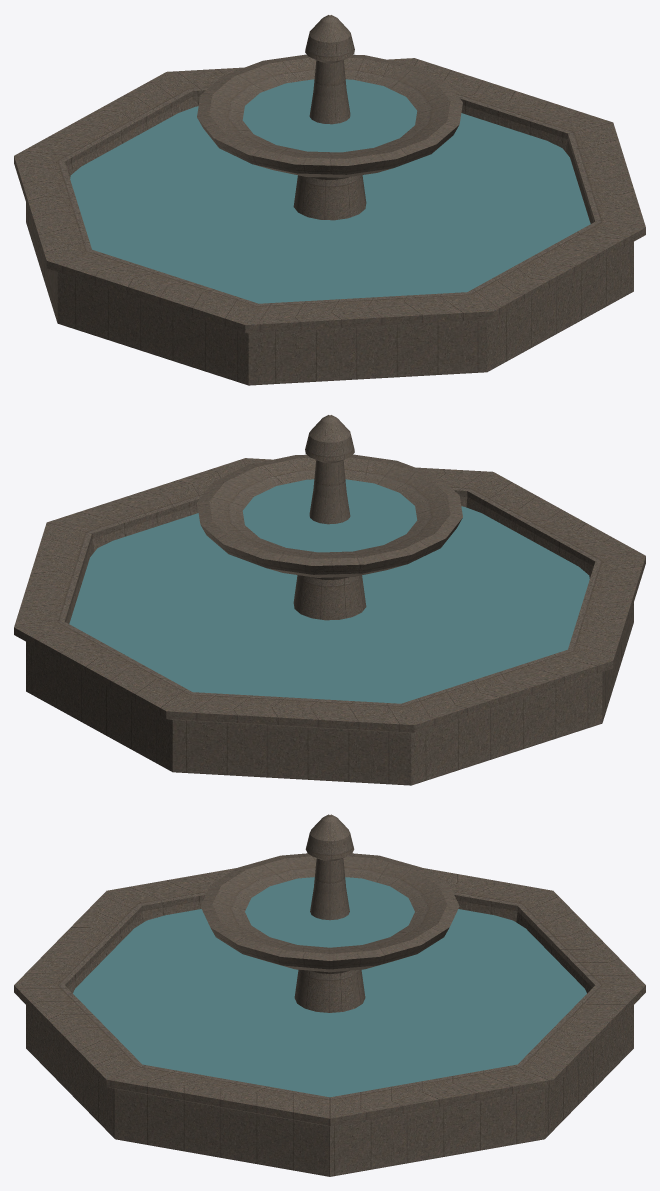
The model's file is fontaine_place_lod1.glb.
3 views of the same model, one above another, from view 1: azimuth 30°, elevation 25°; view 2: azimuth 150°, elevation 25°; view 3: azimuth 270°, elevation 25° (orthographic). The views are drawn at different scales.
Visible parts, largest first — view 1: fontaine; view 2: fontaine; view 3: fontaine.
Boxes of the visible parts, x1,y1,x2,y2 form: fontaine: [14, 15, 645, 385]; fontaine: [14, 415, 645, 785]; fontaine: [14, 814, 645, 1176].
Size of the model in its own units: 6.24 by 2.55 by 6.24.
2 materials, 1 textured.
